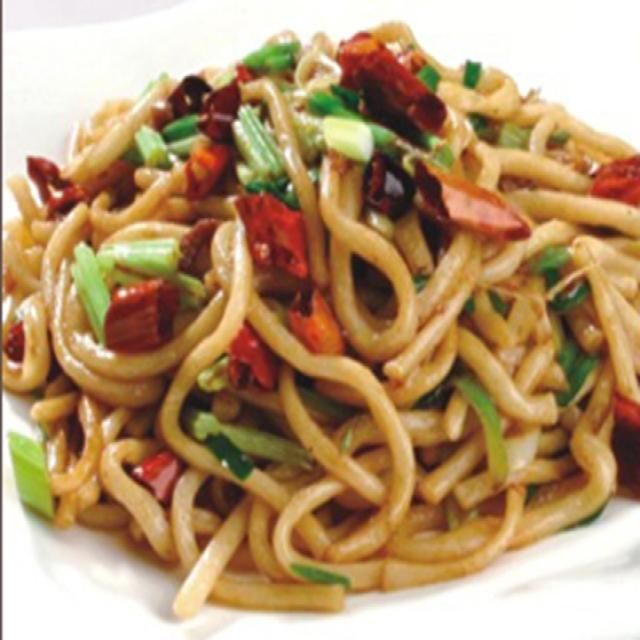面条主食: (9, 39, 620, 618)
